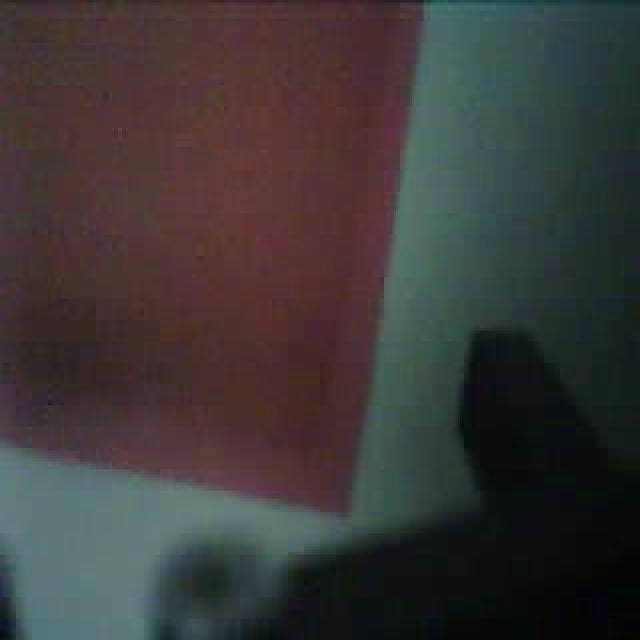red_box: (4, 10, 427, 517)
